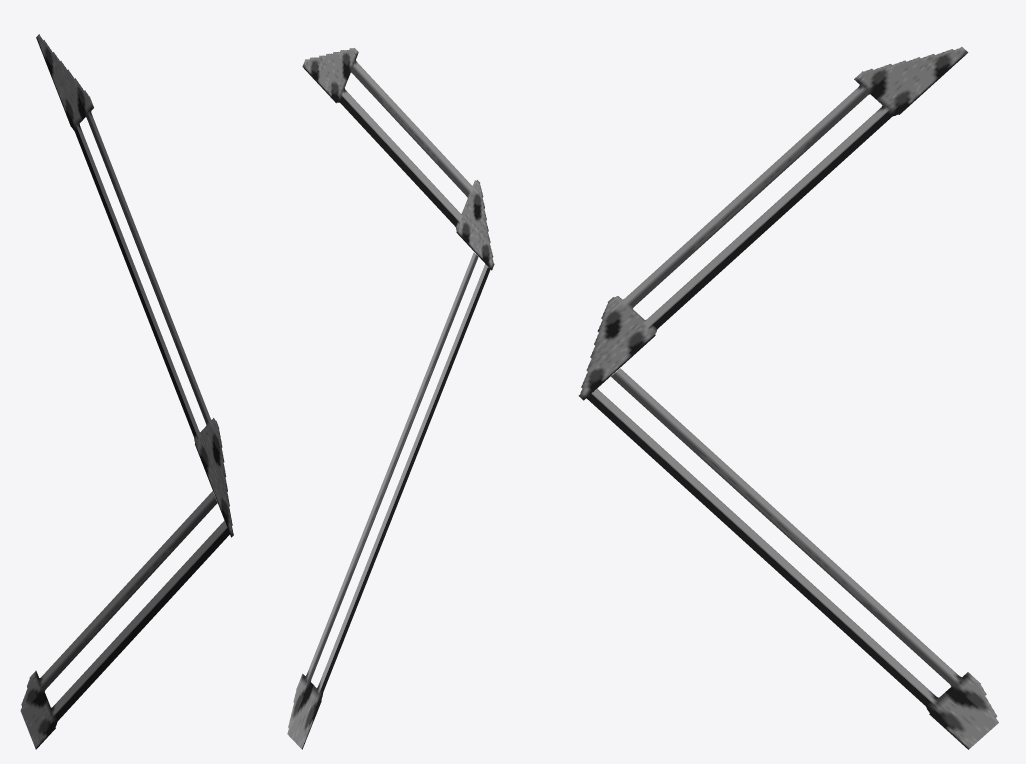
Rendered from lamp_light_stand.glb.
The picture shows the model from 3 angles, left to right: view 1: azimuth 30°, elevation 25°; view 2: azimuth 150°, elevation 25°; view 3: azimuth 270°, elevation 25°; orthographic projection. The views are drawn at different scales.
Parts seen in each view (by area): view 1: Object; view 2: Object; view 3: Object.
Boxes of the visible parts, x1=… form: Object: x1=20, y1=34, x2=233, y2=749; Object: x1=287, y1=48, x2=494, y2=749; Object: x1=578, y1=47, x2=998, y2=749.
Bounding box in the file's own units: 0.00179 × 0.8762 × 0.5077.
Materials: 2 (2 with a texture image).
